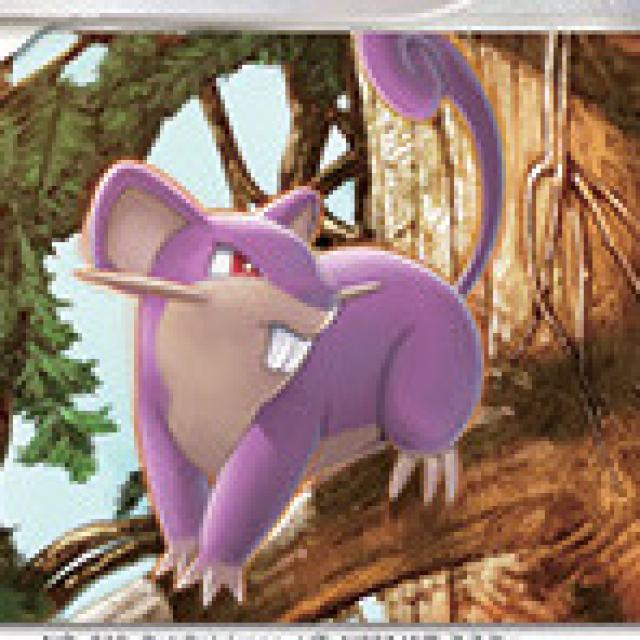Rattata: (66, 155, 492, 580)
